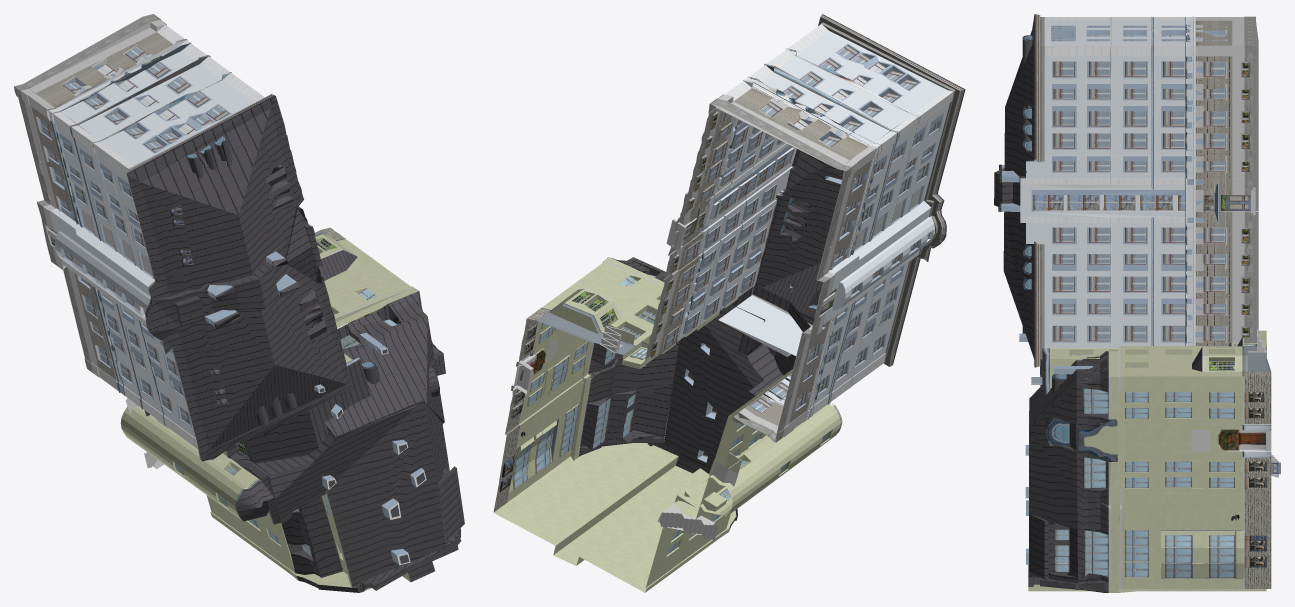
Rendered from Toompea_8_2-origo.obj.
3 views of the same model, side by side, from view 1: azimuth 30°, elevation 25°; view 2: azimuth 150°, elevation 25°; view 3: azimuth 270°, elevation 25° (orthographic). The views are drawn at different scales.
Parts seen in each view (by area): view 1: polySurface352; view 2: polySurface352; view 3: polySurface352.
Boxes of the visible parts, x1,y1,x2,y2 form: polySurface352: [14, 14, 464, 592]; polySurface352: [493, 14, 965, 592]; polySurface352: [994, 14, 1280, 592].
Bounding box in the file's own units: 36.38 × 50 × 26.4.
